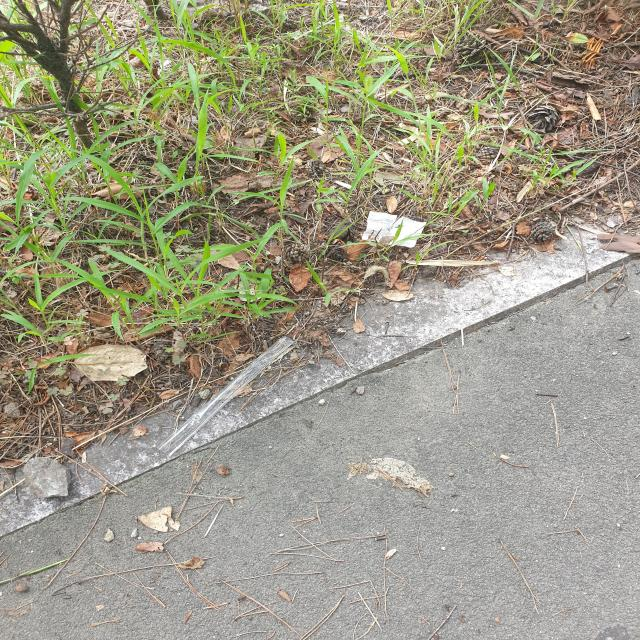litter: (341, 201, 435, 260)
